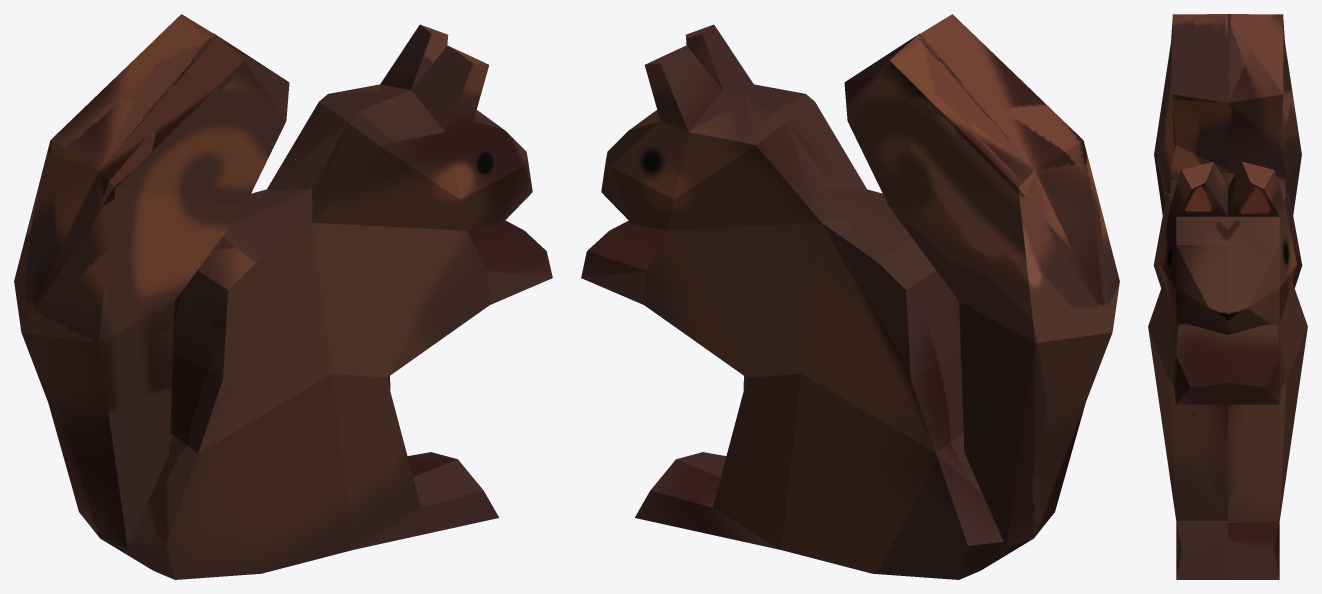
Rendered from squirrel2222.fbx.
3 views of the same model, side by side, from view 1: azimuth 30°, elevation 25°; view 2: azimuth 150°, elevation 25°; view 3: azimuth 270°, elevation 25° (orthographic). The views are drawn at different scales.
Visible parts, largest first — view 1: Plane; view 2: Plane; view 3: Plane.
Boxes of the visible parts, x1,y1,x2,y2 form: Plane: (14, 14, 552, 579); Plane: (581, 14, 1119, 579); Plane: (1148, 14, 1307, 579).
Bounding box in the file's own units: 136 × 135 × 42.67.
1 material, 1 textured.
